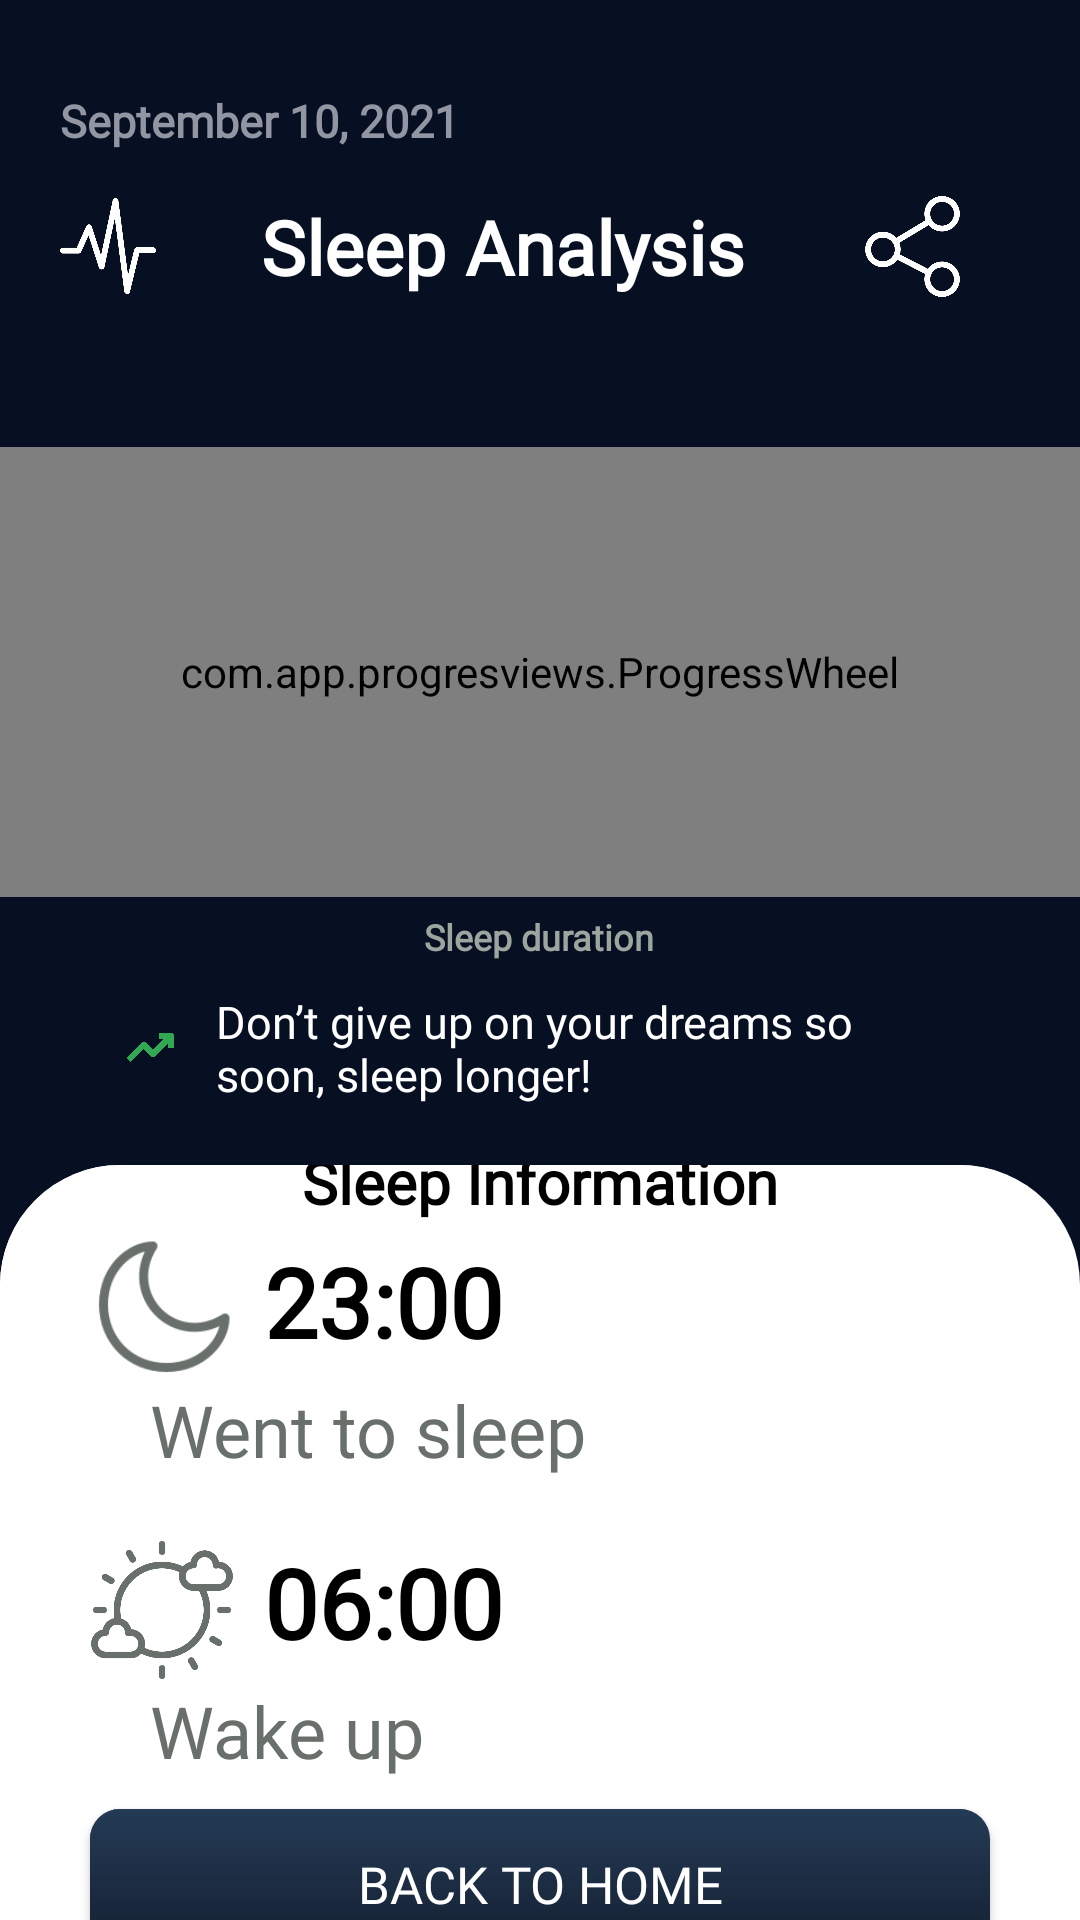

Icon click points for this 1080x1920 phone screenshot, format (x,y):
line: (108,246)
moonicon: (164,1306)
share: (912,246)
sunicon: (162,1610)
